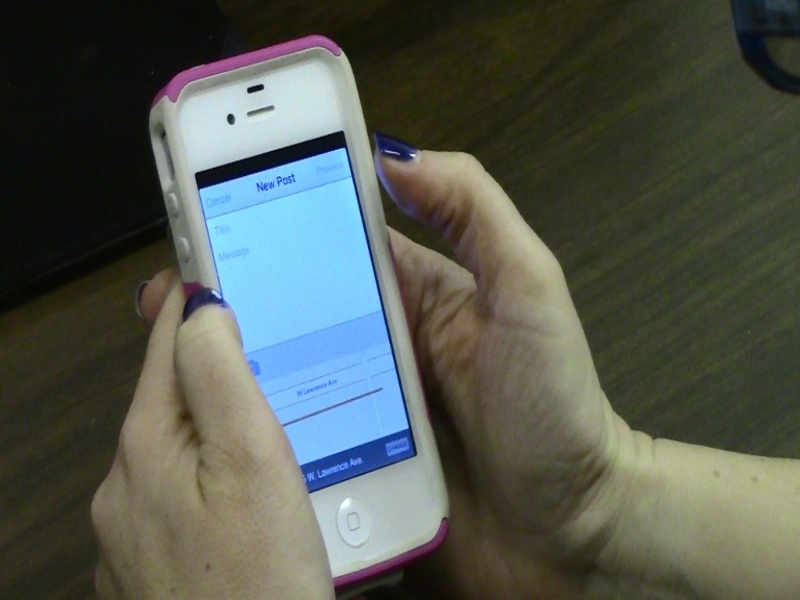Mobile Phone: (123, 43, 499, 573)
